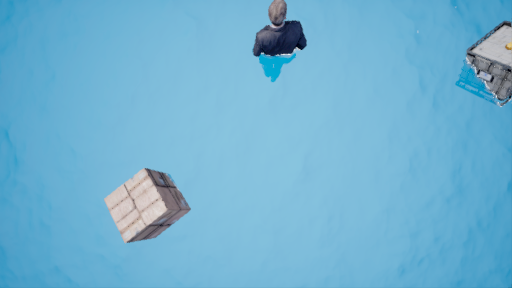person: (251, 1, 307, 82)
